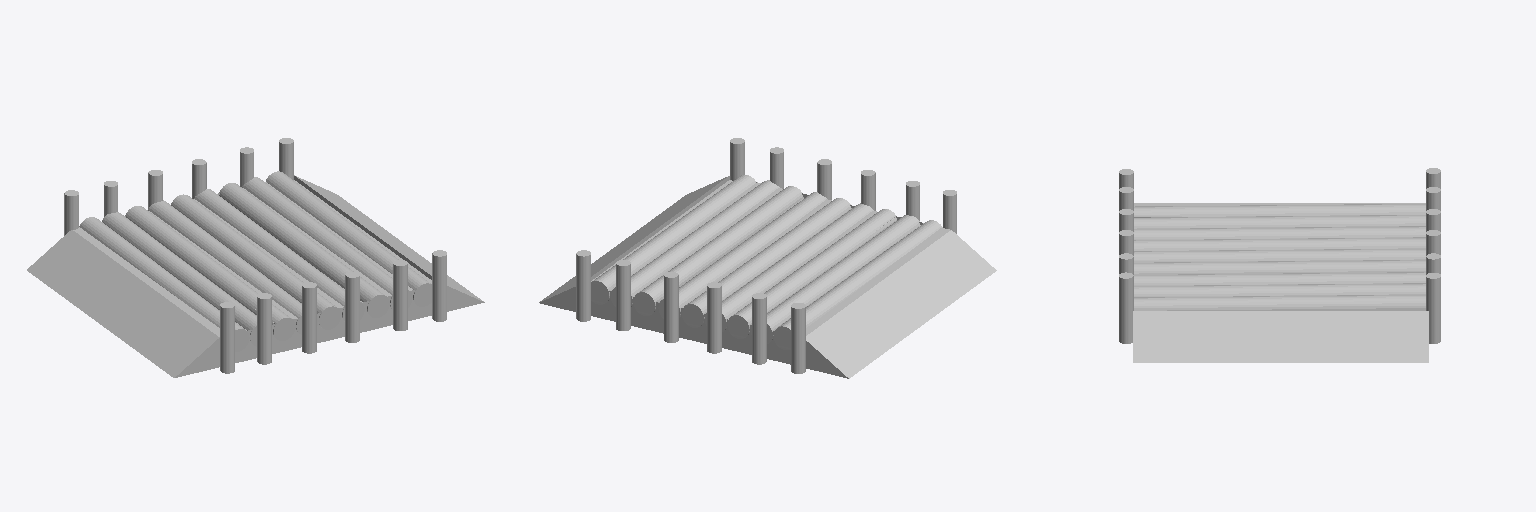
File: ponton.obj
The picture shows the model from 3 angles: view 1: azimuth 30°, elevation 25°; view 2: azimuth 150°, elevation 25°; view 3: azimuth 270°, elevation 25°; orthographic projection.
Visible parts, largest first — view 1: Cube_Cube.001; view 2: Cube_Cube.001; view 3: Cube_Cube.001.
Part boxes in pixels (bbox=[...]): Cube_Cube.001: bbox=[27, 138, 484, 377]; Cube_Cube.001: bbox=[539, 138, 996, 378]; Cube_Cube.001: bbox=[1119, 168, 1440, 362].
Bounding box in the file's own units: 1.98 × 0.3971 × 1.78.